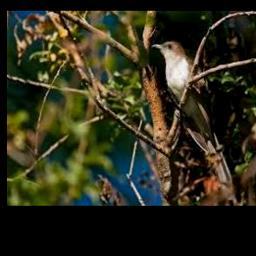Cuckoo: (152, 41, 232, 186)
